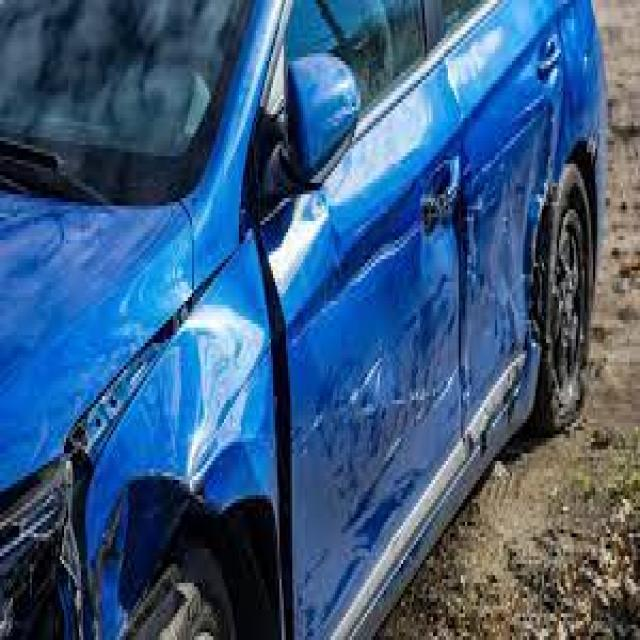minor: (428, 140, 492, 375)
moderate: (523, 132, 572, 388)
severe: (0, 285, 241, 640)
